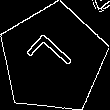L_SE: (25, 31, 81, 87)
